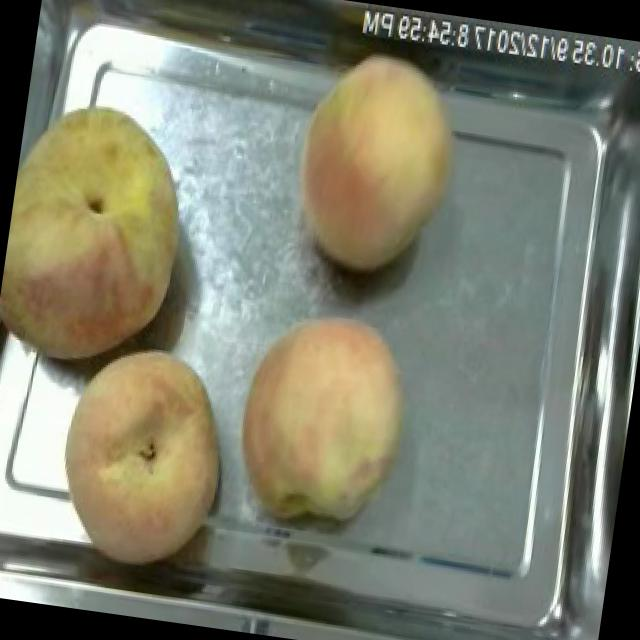Fruit: (0, 81, 213, 387), (36, 330, 250, 588), (273, 32, 478, 290), (216, 294, 427, 541)
